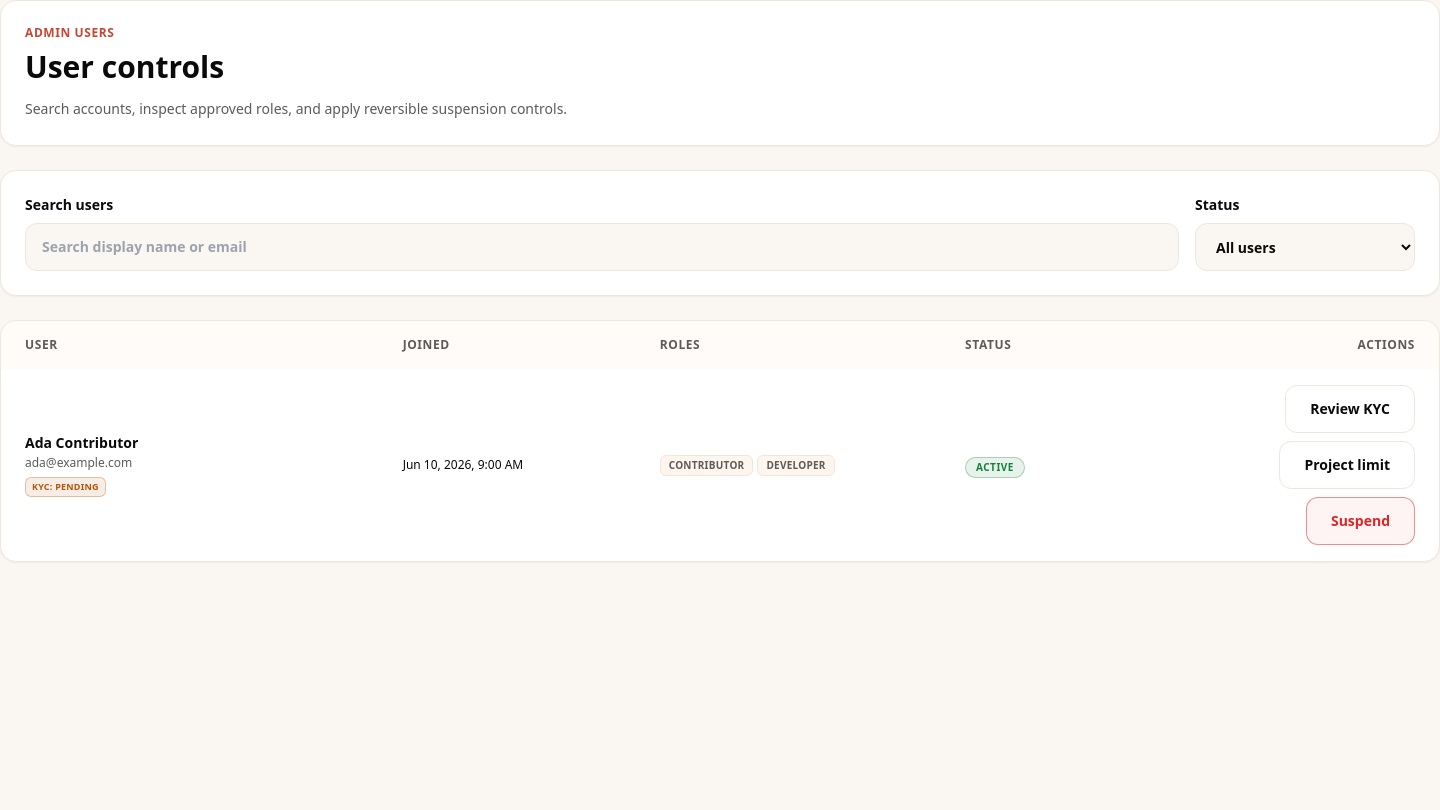
Test case: AdminUserDirectoryPanel › renders directory rows and suspends a selected user with a reason
expect the heading "User controls" is shown: met, box [25,46,224,87]
expect the text "ada@example.com" is shown: met, box [25,454,132,471]
Click the button "Suspend" at (1360,521), box [1306,497,1415,545]
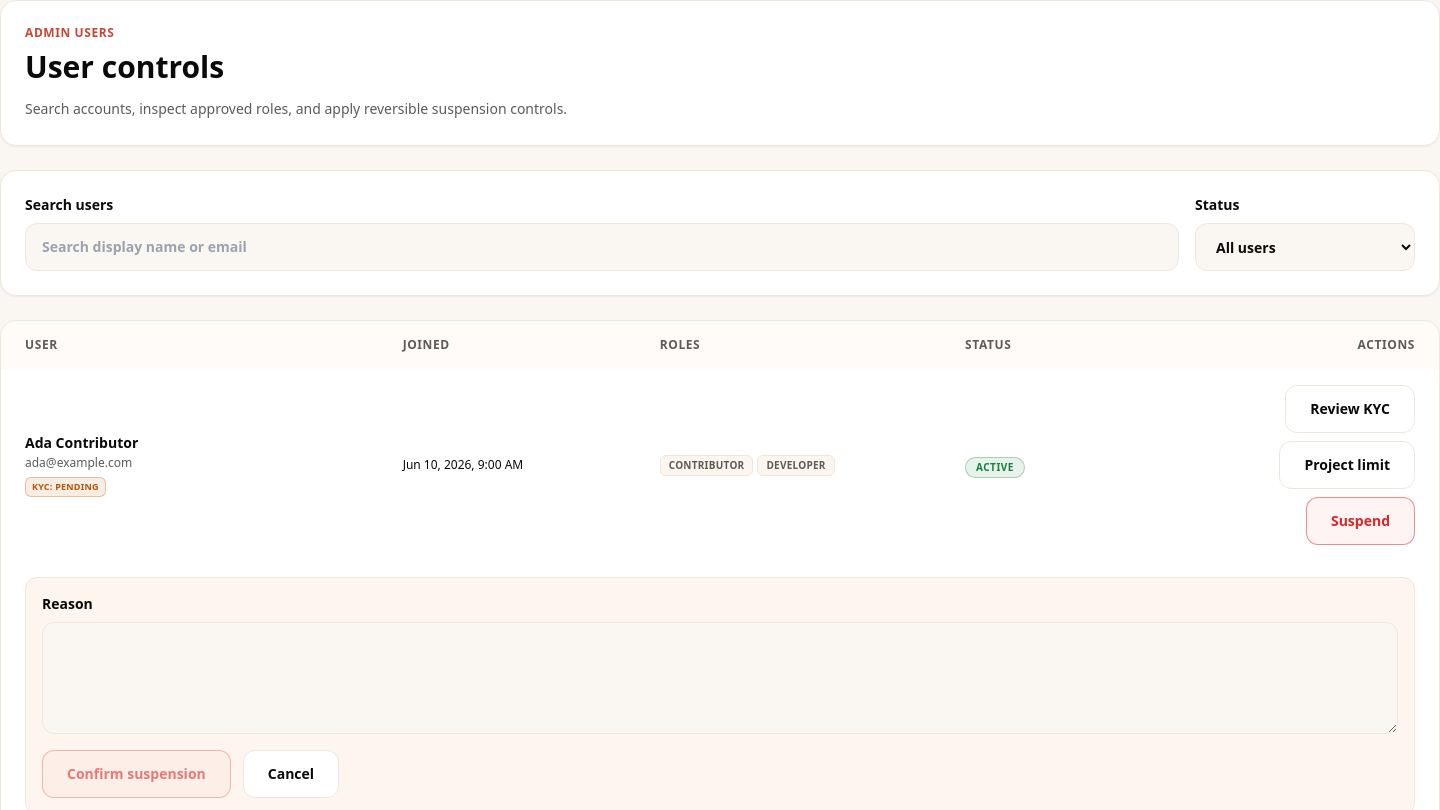
Type "Fraud review" into the text box labelled "Reason" at (720,678), box [42,622,1398,734]
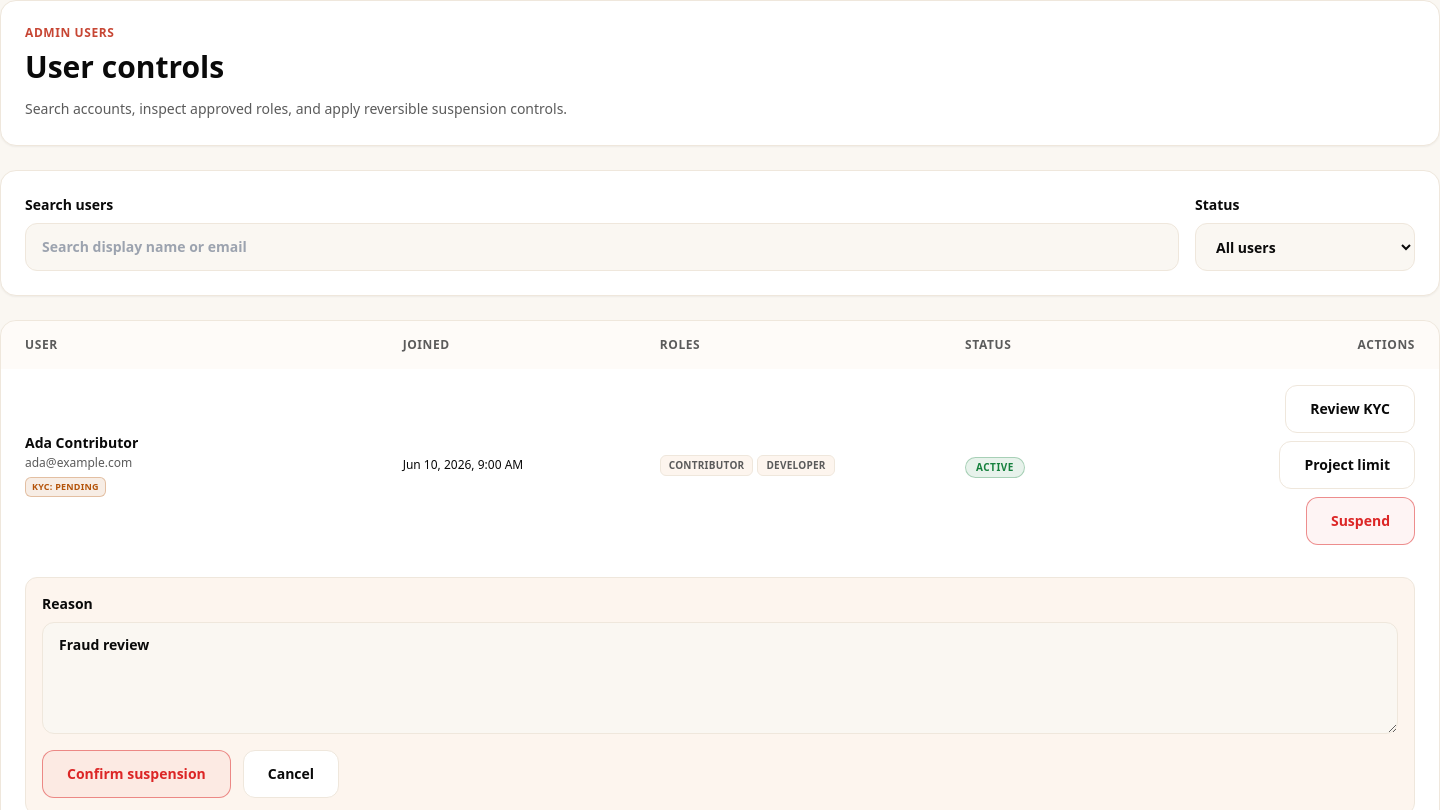
Click the button "Confirm suspension" at (136,774), box [42,750,231,798]
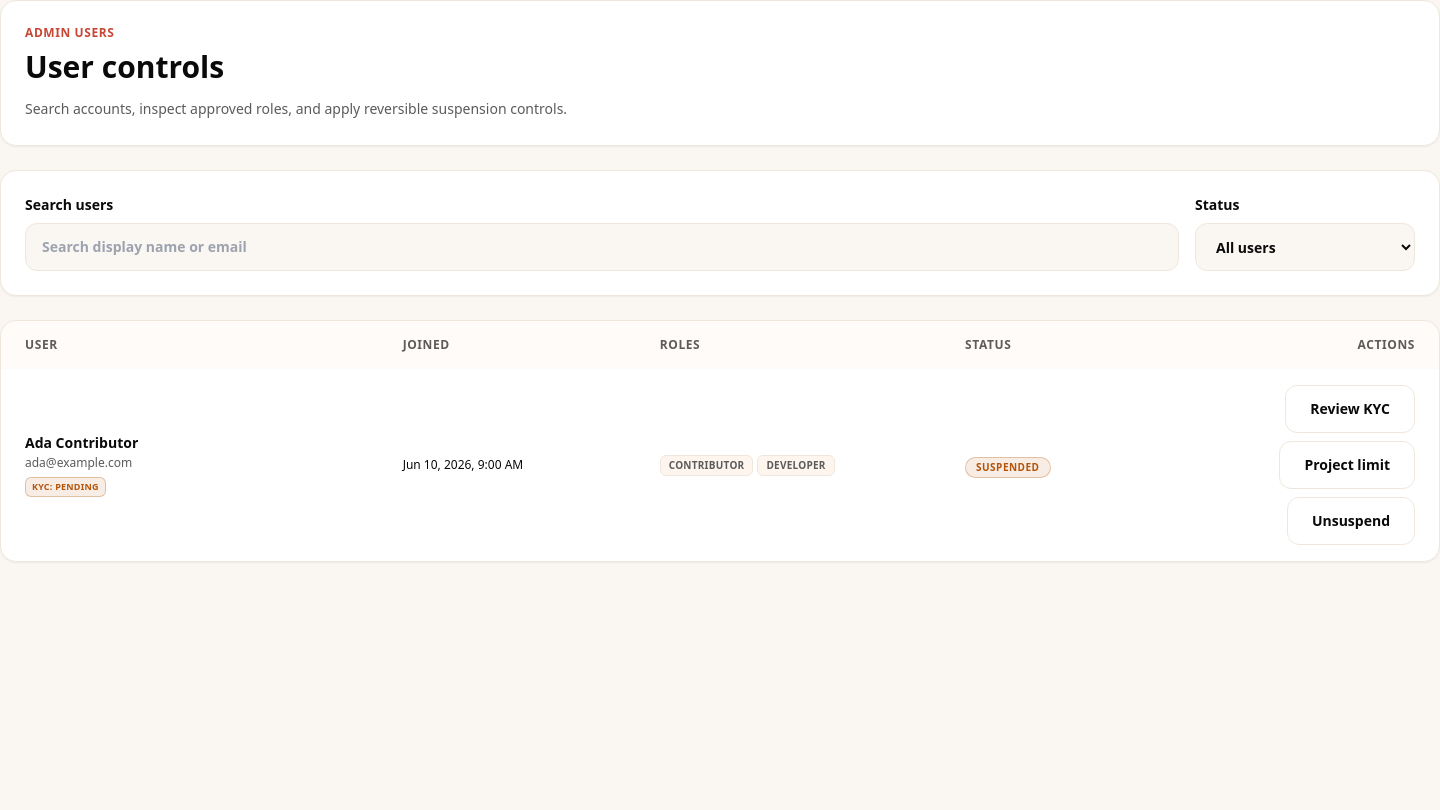
expect the text "Suspended" is shown: met, box [965,456,1050,478]
